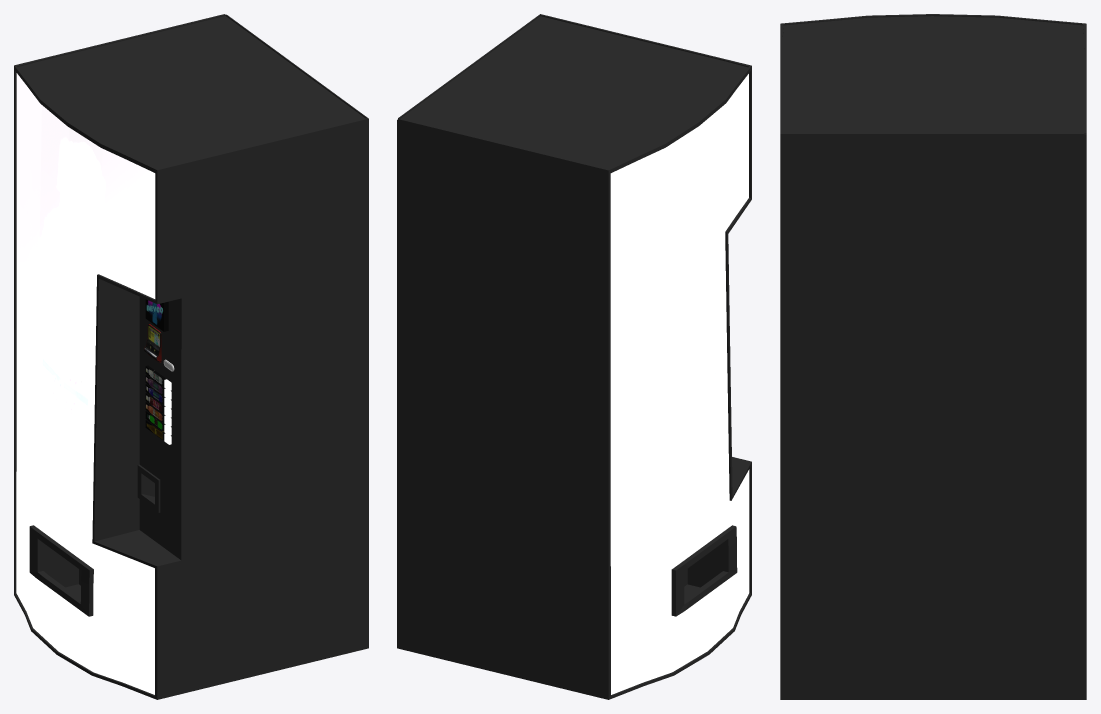
The model's file is vending-machine.glb.
3 views of the same model, side by side, from view 1: azimuth 30°, elevation 25°; view 2: azimuth 150°, elevation 25°; view 3: azimuth 270°, elevation 25° (orthographic). The views are drawn at different scales.
Visible parts, largest first — view 1: Vending Machine, ArtPlate, Opening, Brand Logo Plate; view 2: Vending Machine, ArtPlate, Opening; view 3: Vending Machine.
Boxes of the visible parts, bbox=[...] form: Vending Machine: bbox=[14, 14, 368, 699]; ArtPlate: bbox=[16, 73, 155, 694]; Opening: bbox=[29, 525, 93, 616]; Brand Logo Plate: bbox=[145, 299, 168, 331]; Vending Machine: bbox=[397, 14, 751, 699]; ArtPlate: bbox=[610, 74, 749, 694]; Opening: bbox=[671, 525, 737, 616]; Vending Machine: bbox=[780, 14, 1086, 699].
Size of the model in its own units: 1.29 by 2.7 by 1.33.
6 materials, 4 textured.
